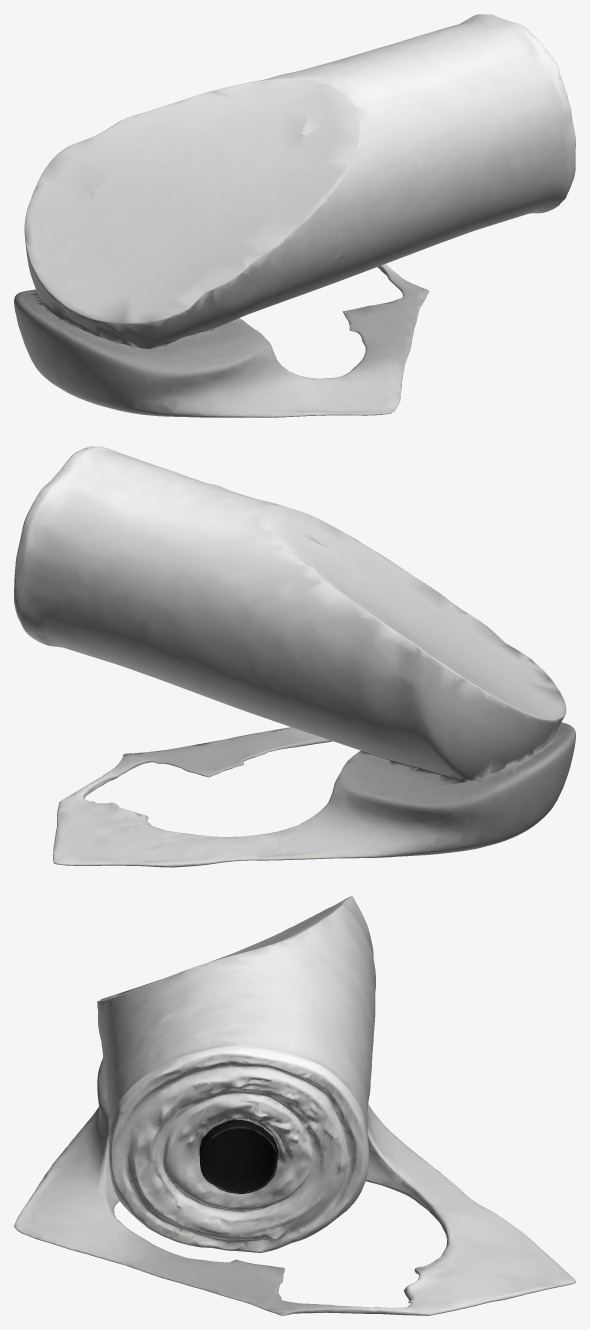
Rendered from tdf-g.glb.
3 views of the same model, one above another, from view 1: azimuth 30°, elevation 25°; view 2: azimuth 150°, elevation 25°; view 3: azimuth 270°, elevation 25° (orthographic). The views are drawn at different scales.
Visible parts, largest first — view 1: tripo_node_1daead49-dddd-4f81-b1ba-30e9d755e26e; view 2: tripo_node_1daead49-dddd-4f81-b1ba-30e9d755e26e; view 3: tripo_node_1daead49-dddd-4f81-b1ba-30e9d755e26e.
Part boxes in pixels (left/top/right/bottom): tripo_node_1daead49-dddd-4f81-b1ba-30e9d755e26e: left=14, top=14, right=575, bottom=417; tripo_node_1daead49-dddd-4f81-b1ba-30e9d755e26e: left=14, top=446, right=575, bottom=867; tripo_node_1daead49-dddd-4f81-b1ba-30e9d755e26e: left=14, top=896, right=575, bottom=1315.
Size of the model in its own units: 0.9999 by 0.5108 by 0.8436.
1 material, 1 textured.
